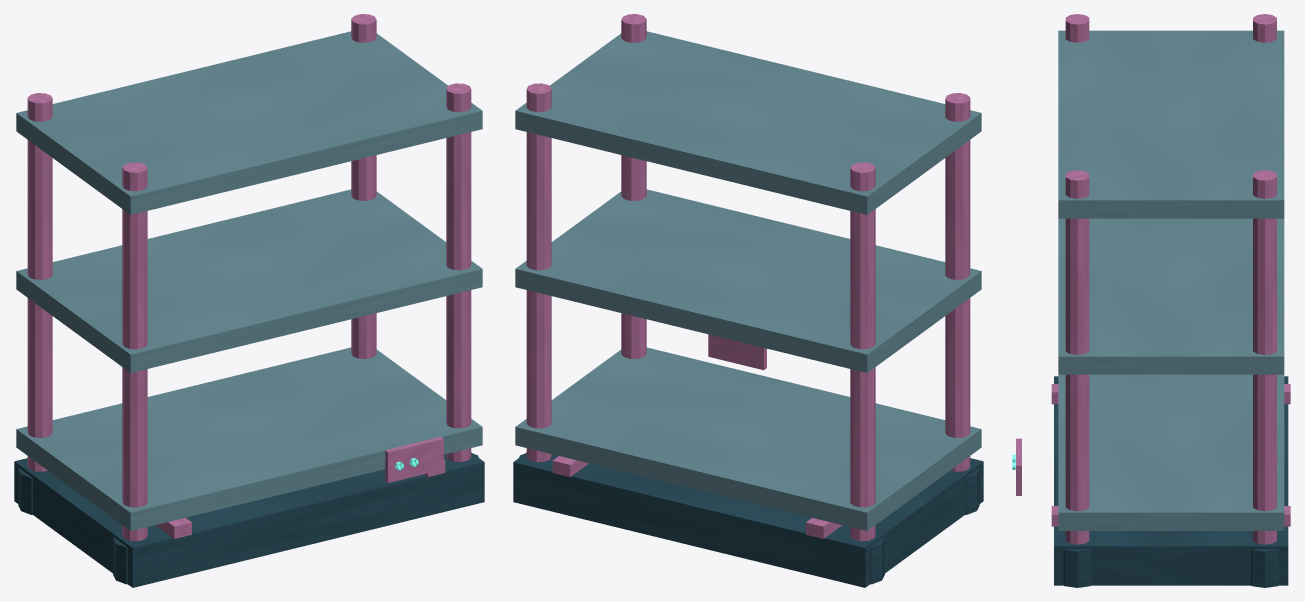
Rendered from atlas100-s067-a06.glb.
The picture shows the model from 3 angles, left to right: view 1: azimuth 30°, elevation 25°; view 2: azimuth 150°, elevation 25°; view 3: azimuth 270°, elevation 25°; orthographic projection.
Visible parts, largest first — view 1: atlas100-s067-a06:part-013, atlas100-s067-a06:part-012, atlas100-s067-a06:part-011, atlas100-s067-a06:part-000, atlas100-s067-a06:part-005, atlas100-s067-a06:part-009, atlas100-s067-a06:part-003, atlas100-s067-a06:part-007, atlas100-s067-a06:part-014, atlas100-s067-a06:part-004, atlas100-s067-a06:part-006; view 2: atlas100-s067-a06:part-013, atlas100-s067-a06:part-012, atlas100-s067-a06:part-011, atlas100-s067-a06:part-000, atlas100-s067-a06:part-003, atlas100-s067-a06:part-007, atlas100-s067-a06:part-005, atlas100-s067-a06:part-009, atlas100-s067-a06:part-014, atlas100-s067-a06:part-006, atlas100-s067-a06:part-004; view 3: atlas100-s067-a06:part-013, atlas100-s067-a06:part-012, atlas100-s067-a06:part-011, atlas100-s067-a06:part-000, atlas100-s067-a06:part-009, atlas100-s067-a06:part-007, atlas100-s067-a06:part-010, atlas100-s067-a06:part-008, atlas100-s067-a06:part-005, atlas100-s067-a06:part-003.
Part boxes in pixels (<box>): atlas100-s067-a06:part-013: <box>16,31,482,214</box>; atlas100-s067-a06:part-012: <box>16,189,482,372</box>; atlas100-s067-a06:part-011: <box>16,347,482,530</box>; atlas100-s067-a06:part-000: <box>14,452,484,587</box>; atlas100-s067-a06:part-005: <box>122,162,147,541</box>; atlas100-s067-a06:part-009: <box>446,83,471,462</box>; atlas100-s067-a06:part-003: <box>27,93,52,471</box>; atlas100-s067-a06:part-007: <box>351,14,376,358</box>; atlas100-s067-a06:part-014: <box>385,436,443,482</box>; atlas100-s067-a06:part-004: <box>18,468,32,514</box>; atlas100-s067-a06:part-006: <box>113,537,127,584</box>; atlas100-s067-a06:part-013: <box>515,31,981,214</box>; atlas100-s067-a06:part-012: <box>515,189,981,372</box>; atlas100-s067-a06:part-011: <box>515,347,981,530</box>; atlas100-s067-a06:part-000: <box>513,452,983,587</box>; atlas100-s067-a06:part-003: <box>850,162,875,541</box>; atlas100-s067-a06:part-007: <box>526,83,551,462</box>; atlas100-s067-a06:part-005: <box>945,93,970,471</box>; atlas100-s067-a06:part-009: <box>621,14,646,358</box>; atlas100-s067-a06:part-014: <box>708,334,766,370</box>; atlas100-s067-a06:part-006: <box>965,468,979,514</box>; atlas100-s067-a06:part-004: <box>870,537,884,584</box>; atlas100-s067-a06:part-013: <box>1058,30,1284,218</box>; atlas100-s067-a06:part-012: <box>1058,218,1284,374</box>; atlas100-s067-a06:part-011: <box>1058,374,1284,530</box>; atlas100-s067-a06:part-000: <box>1054,376,1288,585</box>; atlas100-s067-a06:part-009: <box>1065,170,1089,544</box>; atlas100-s067-a06:part-007: <box>1253,170,1276,544</box>; atlas100-s067-a06:part-010: <box>1063,549,1091,587</box>; atlas100-s067-a06:part-008: <box>1251,549,1278,587</box>; atlas100-s067-a06:part-005: <box>1065,14,1089,42</box>; atlas100-s067-a06:part-003: <box>1253,14,1276,42</box>.
Bounding box in the file's own units: 2.47 × 2.66 × 1.66.
4 materials, 4 textured.
